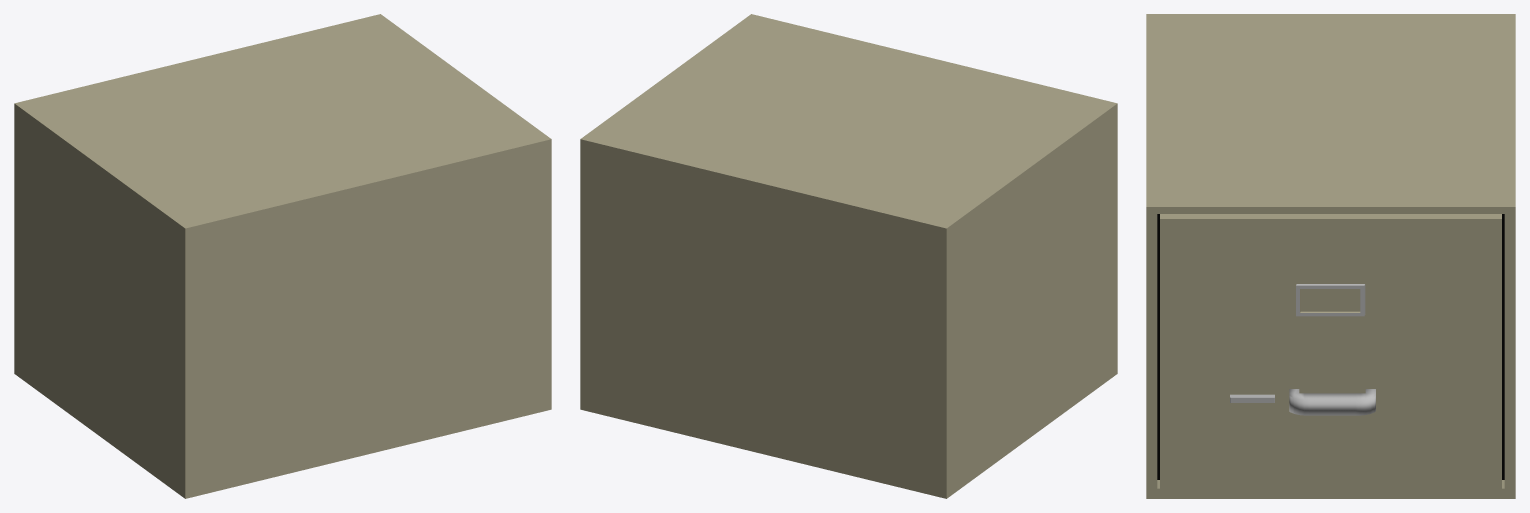
Rendered from Cabinets1.fbx.
The picture shows the model from 3 angles, left to right: view 1: azimuth 30°, elevation 25°; view 2: azimuth 150°, elevation 25°; view 3: azimuth 270°, elevation 25°; orthographic projection. The views are drawn at different scales.
Parts seen in each view (by area): view 1: Cube.002; view 2: Cube.002; view 3: Cube.002.
Boxes of the visible parts, x1,y1,x2,y2 form: Cube.002: [14, 14, 551, 498]; Cube.002: [580, 14, 1117, 498]; Cube.002: [1146, 14, 1515, 498].
Bounding box in the file's own units: 104 × 69.1 × 79.21.
